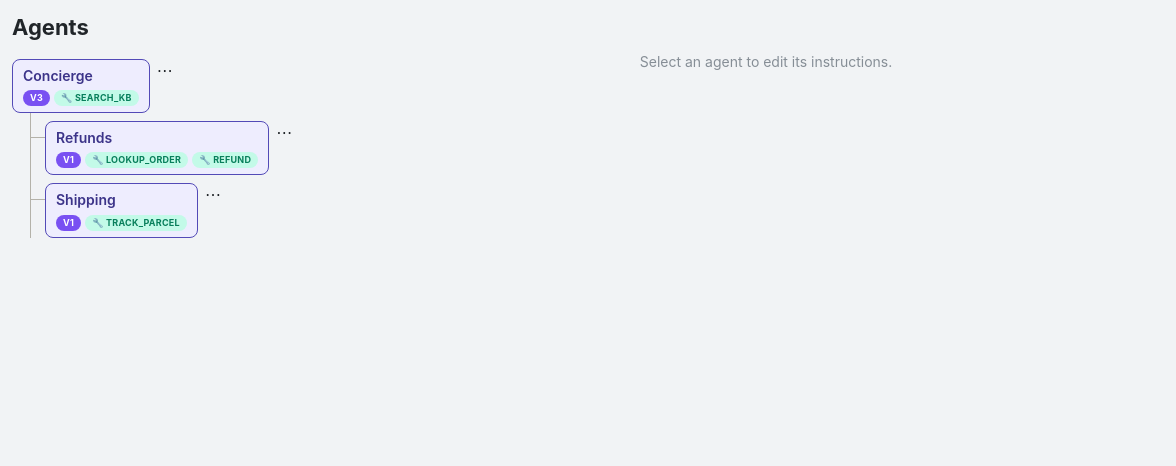
Test: AgentsPage tree view › node click opens the editor beside the tree, not instead of it
Click the button with aria-label "Open Refunds". click: (157, 148)
box: [45,121,269,175]
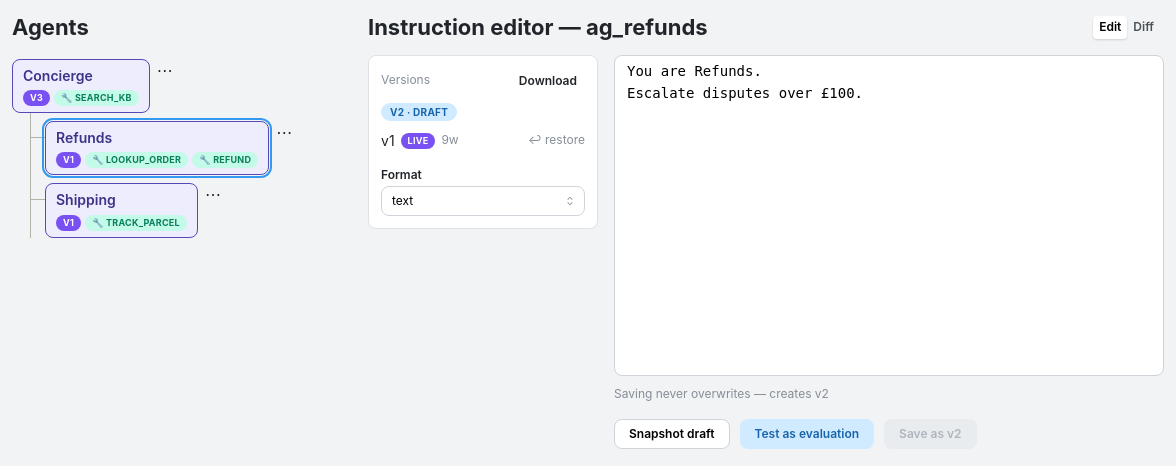
expect the button with aria-label "Open Shipping" is shown: met, box [45,183,198,238]
expect the heading "Instruction editor — ag_refunds" is shown: met, box [368,12,708,43]
